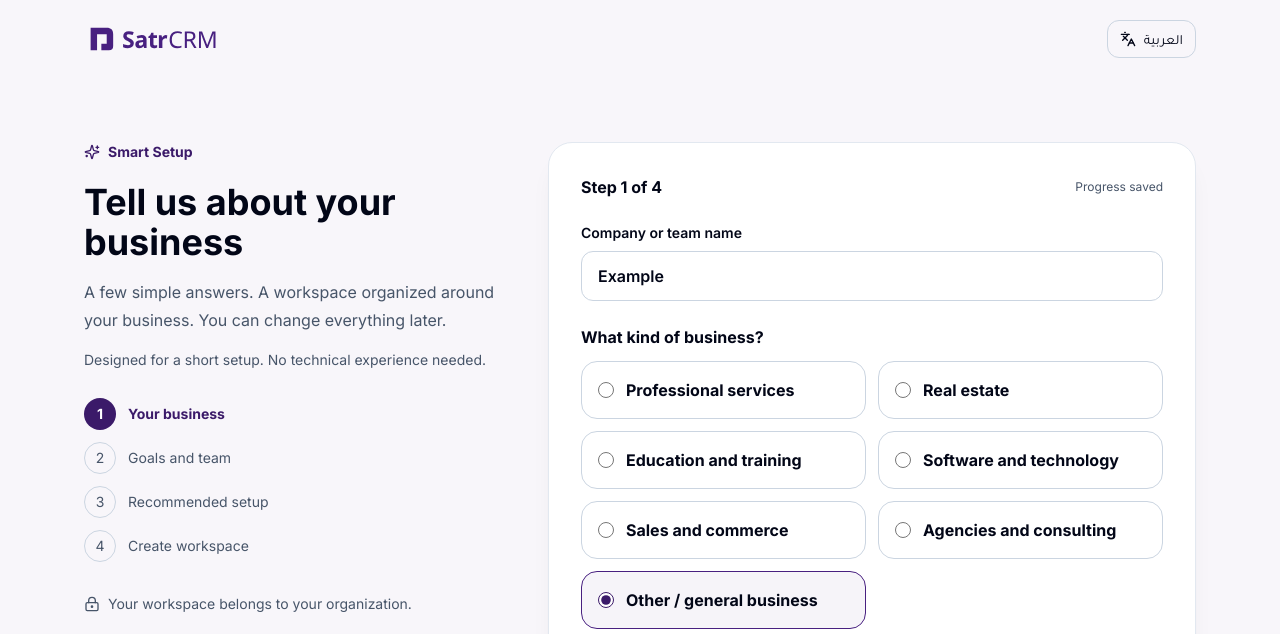
Scenario: Smart Setup bilingual and resumable UI › permits clearing the company name without crashing and validates before advancing
Clear the field labelled "Company or team name" at [872, 276], box x1=581 y1=251 x2=1163 y2=301
(page scrolled)
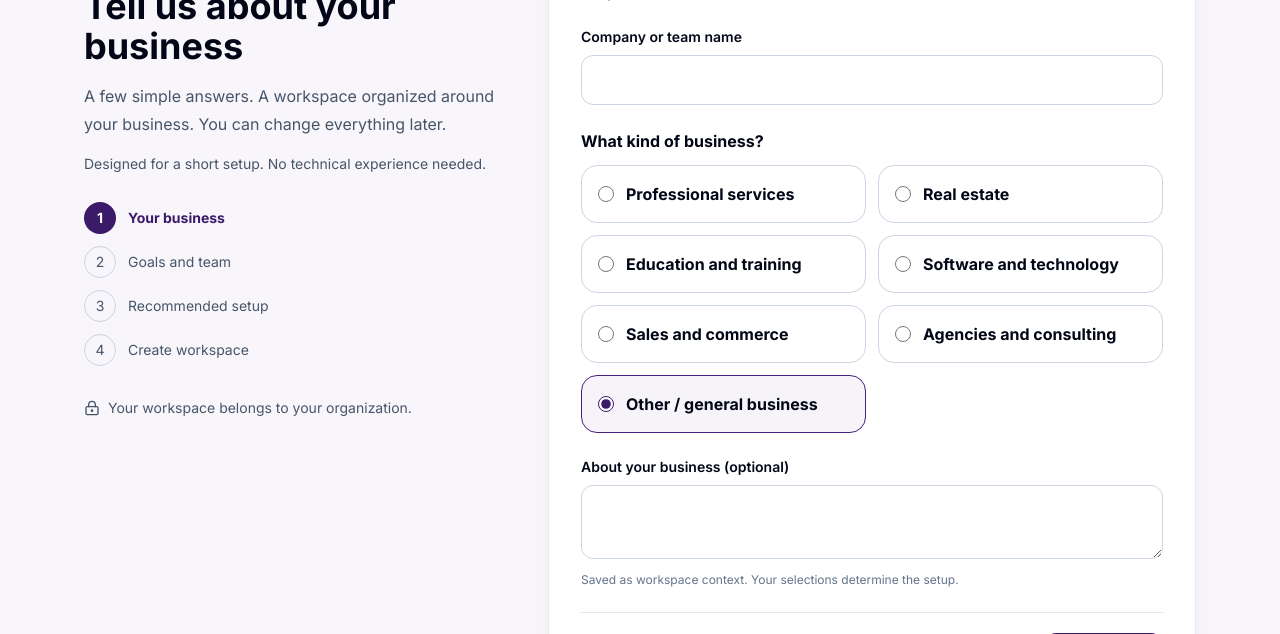
Submit the form named "Continue"
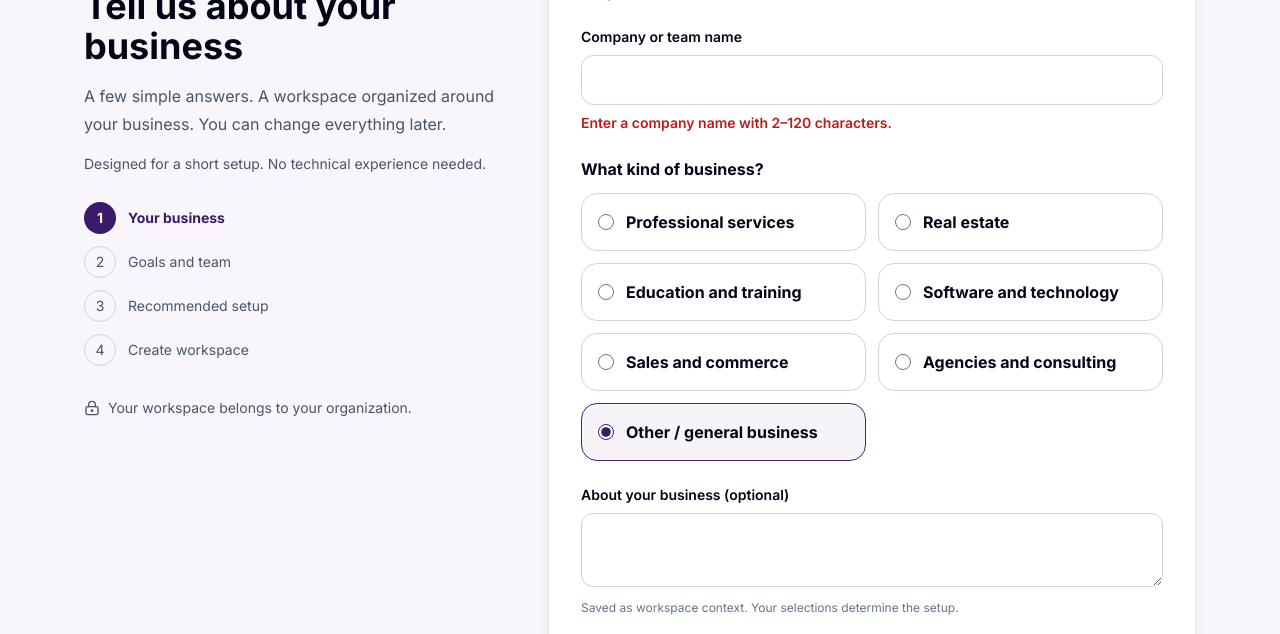
expect the text "Enter a company name with 2–120 characters." is shown: met, box x1=581 y1=114 x2=892 y2=131
